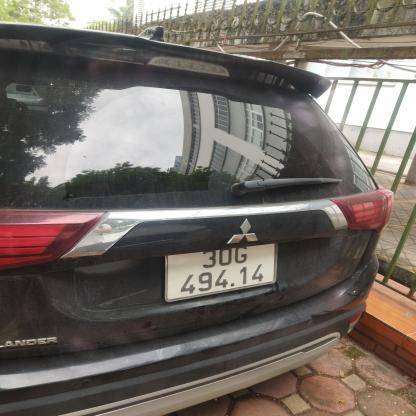biensoxe: (165, 241, 281, 301)
